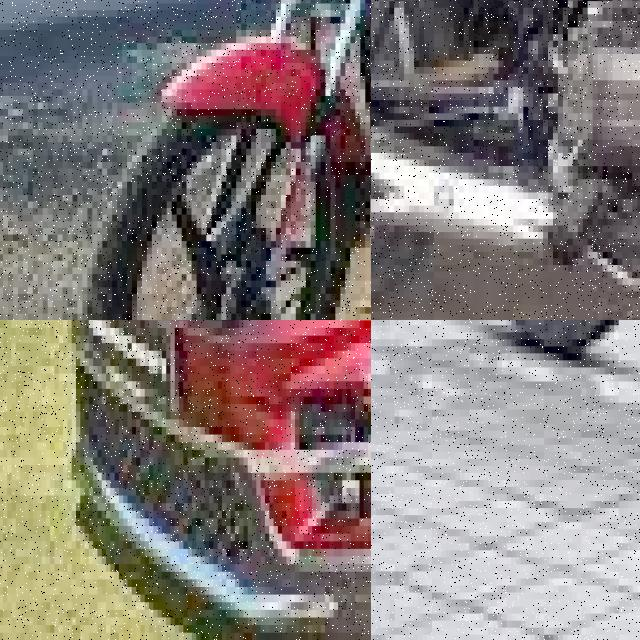bike: (77, 0, 371, 320), (371, 0, 640, 320), (418, 320, 640, 487)
car: (63, 320, 371, 640)
